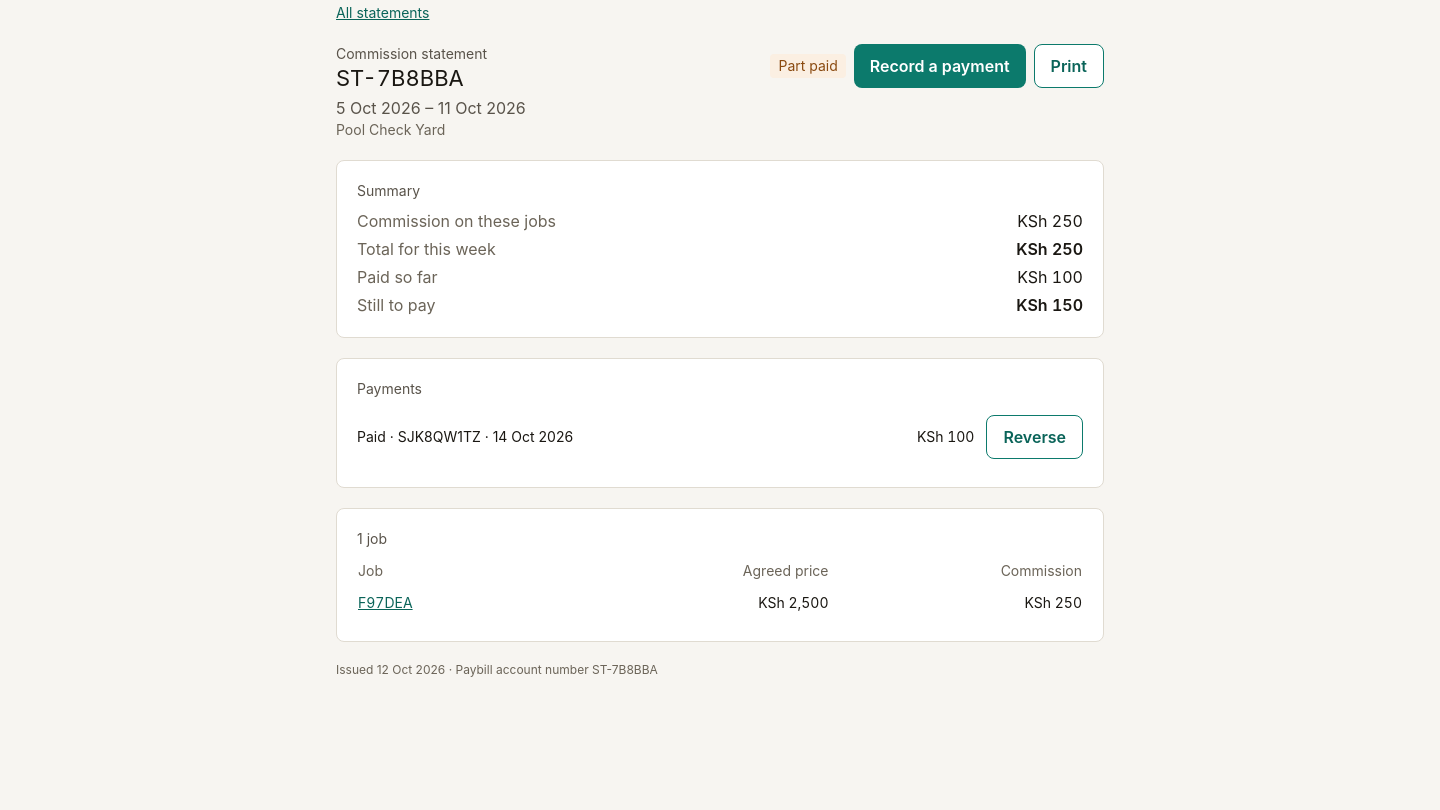
AdminStatementDetailPage › records a payment after a confirm step that restates it
Click the button "Record a payment". click: (940, 66)
box: [854, 44, 1026, 88]
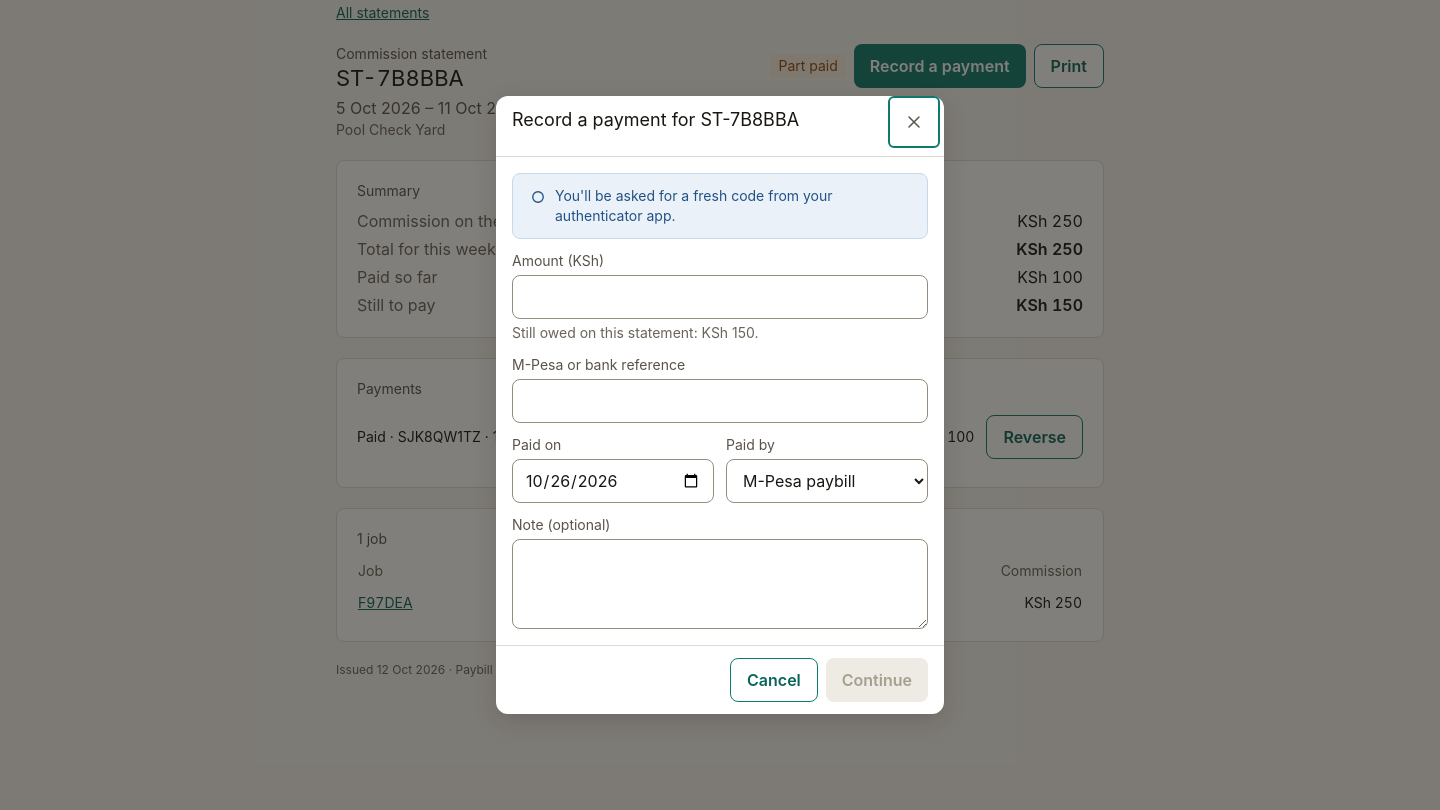
Type "200" into the field labelled "Amount (KSh)". click: (720, 297)
box: [512, 275, 928, 319]
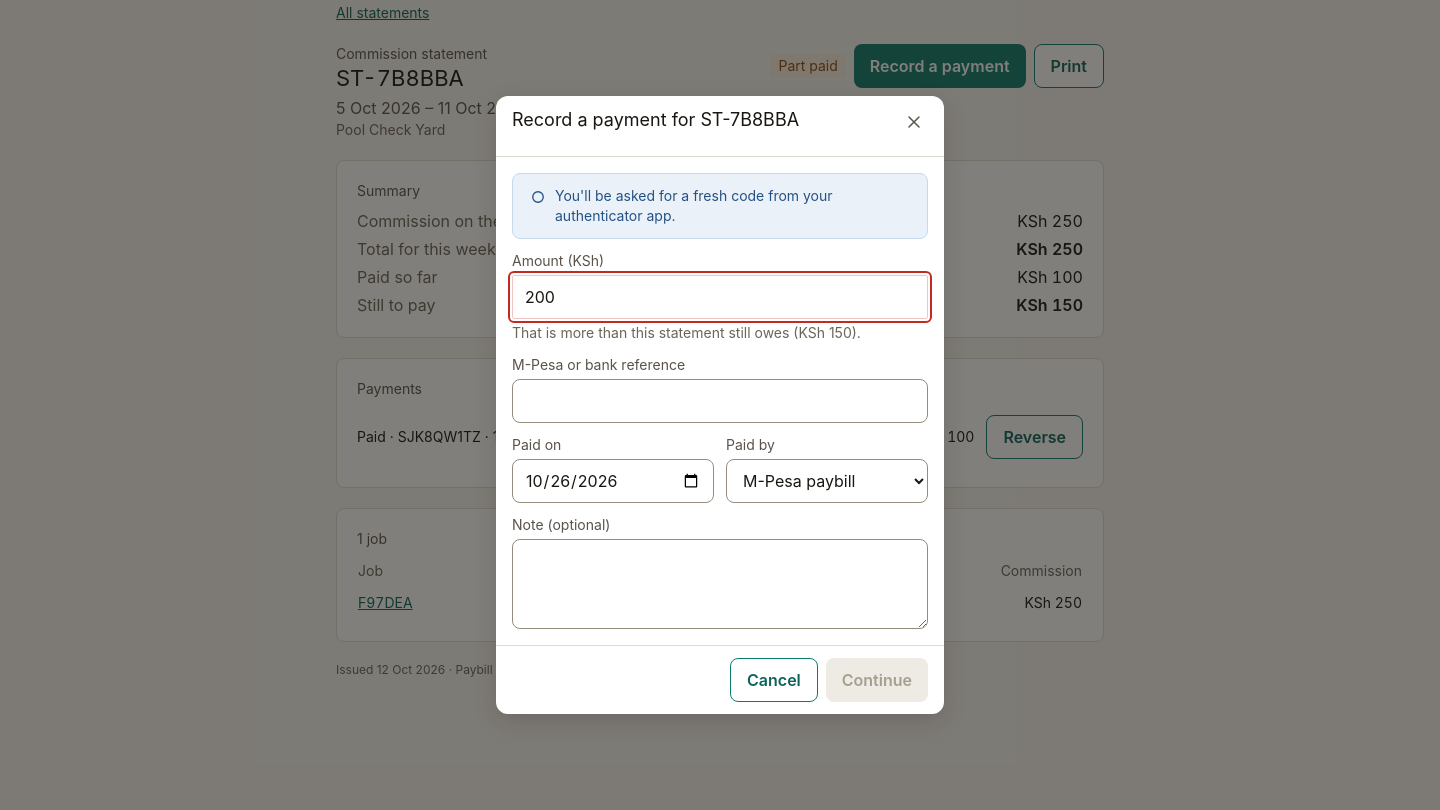
Now the button "Continue" is disabled, box [826, 658, 928, 702]
Replace the text in the field labelled "Amount (KSh)" with "150". click: (720, 297)
box: [512, 275, 928, 319]
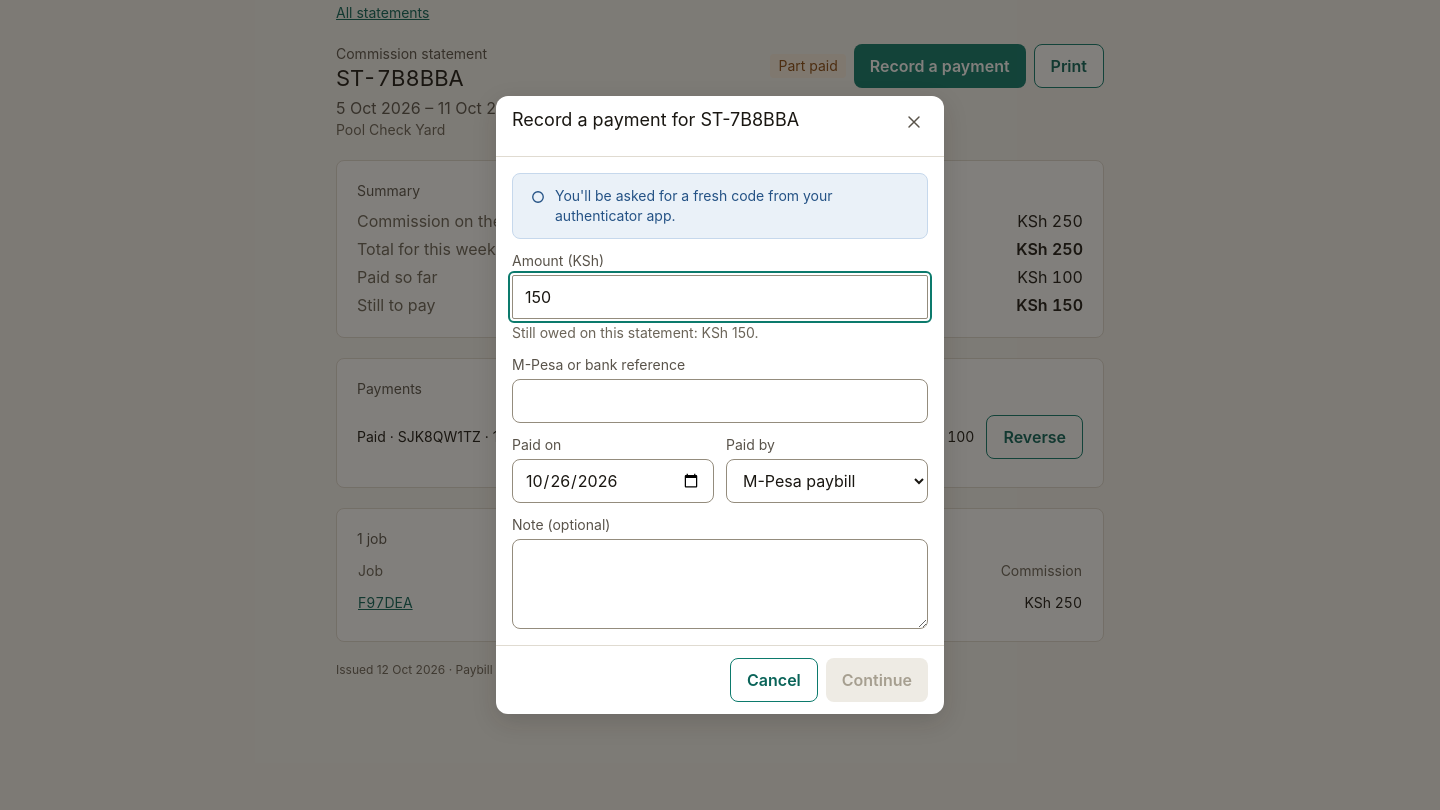
Type "sjk9ab2cd" into the field labelled "M-Pesa or bank reference". click: (720, 401)
box: [512, 379, 928, 423]
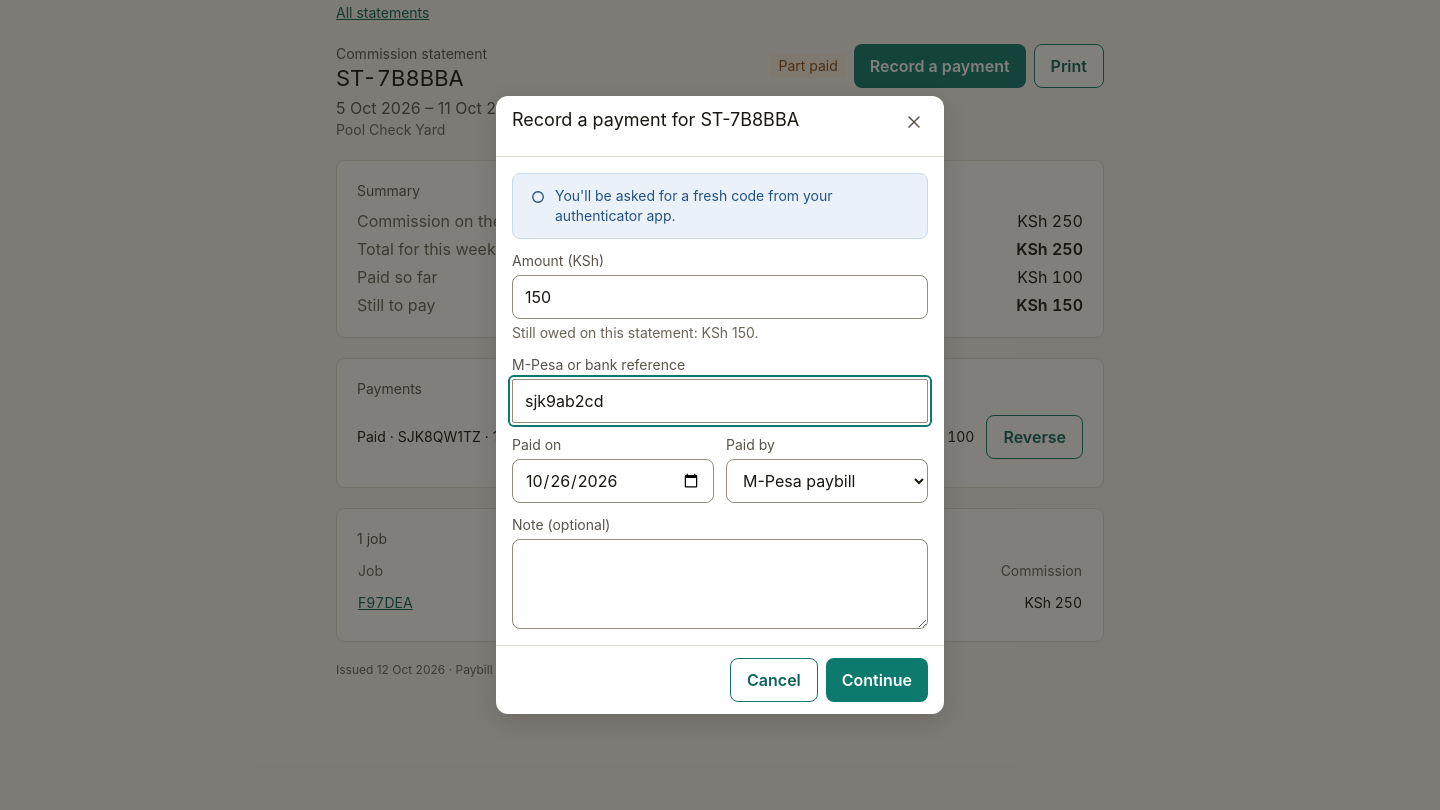
Click the button "Continue". click: (877, 680)
box: [826, 658, 928, 702]
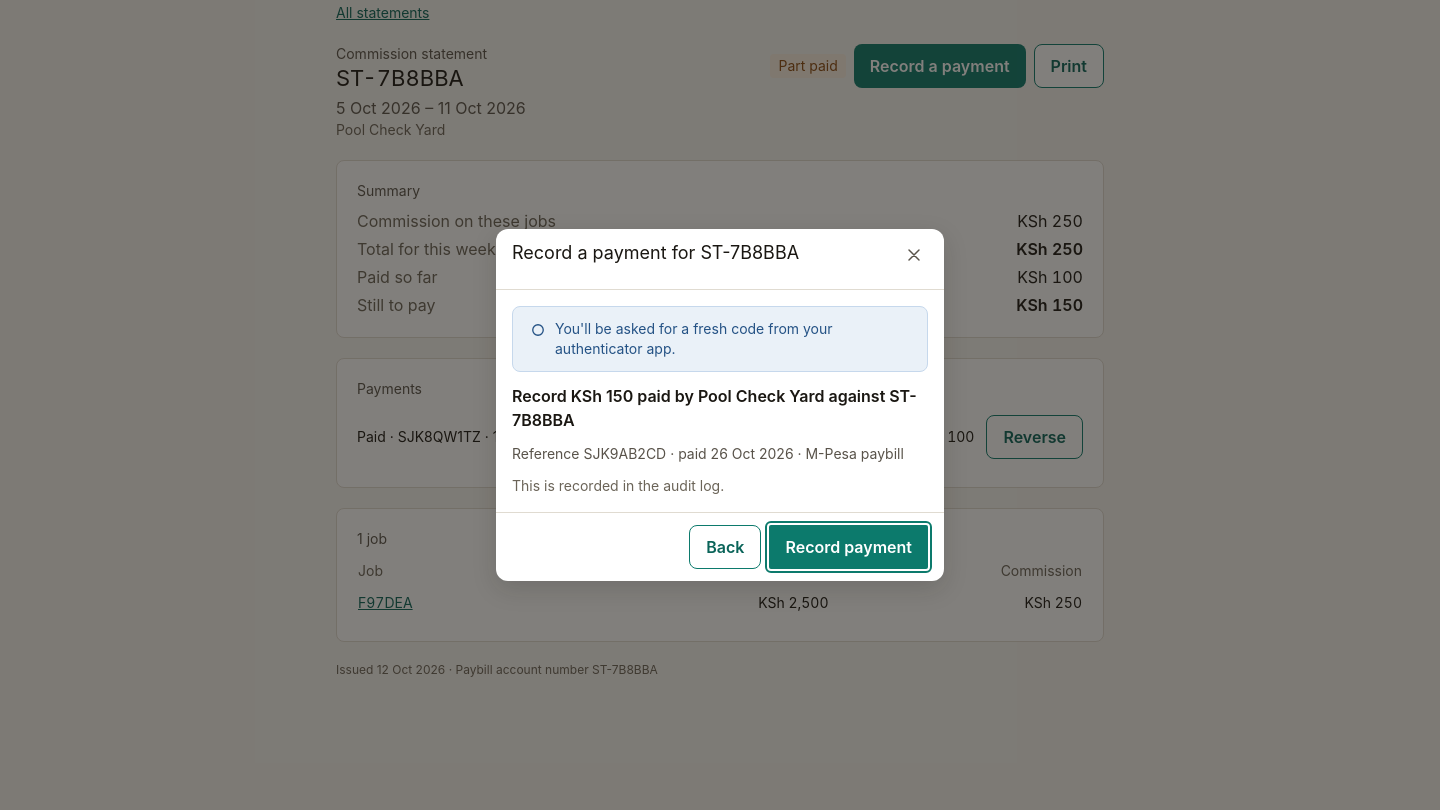
Now the text "Record KSh 150 paid by Pool Check Yard against ST-7B8BBA" is shown, box [512, 384, 928, 432]
Click the button "Record payment". click: (849, 547)
box: [769, 525, 928, 569]
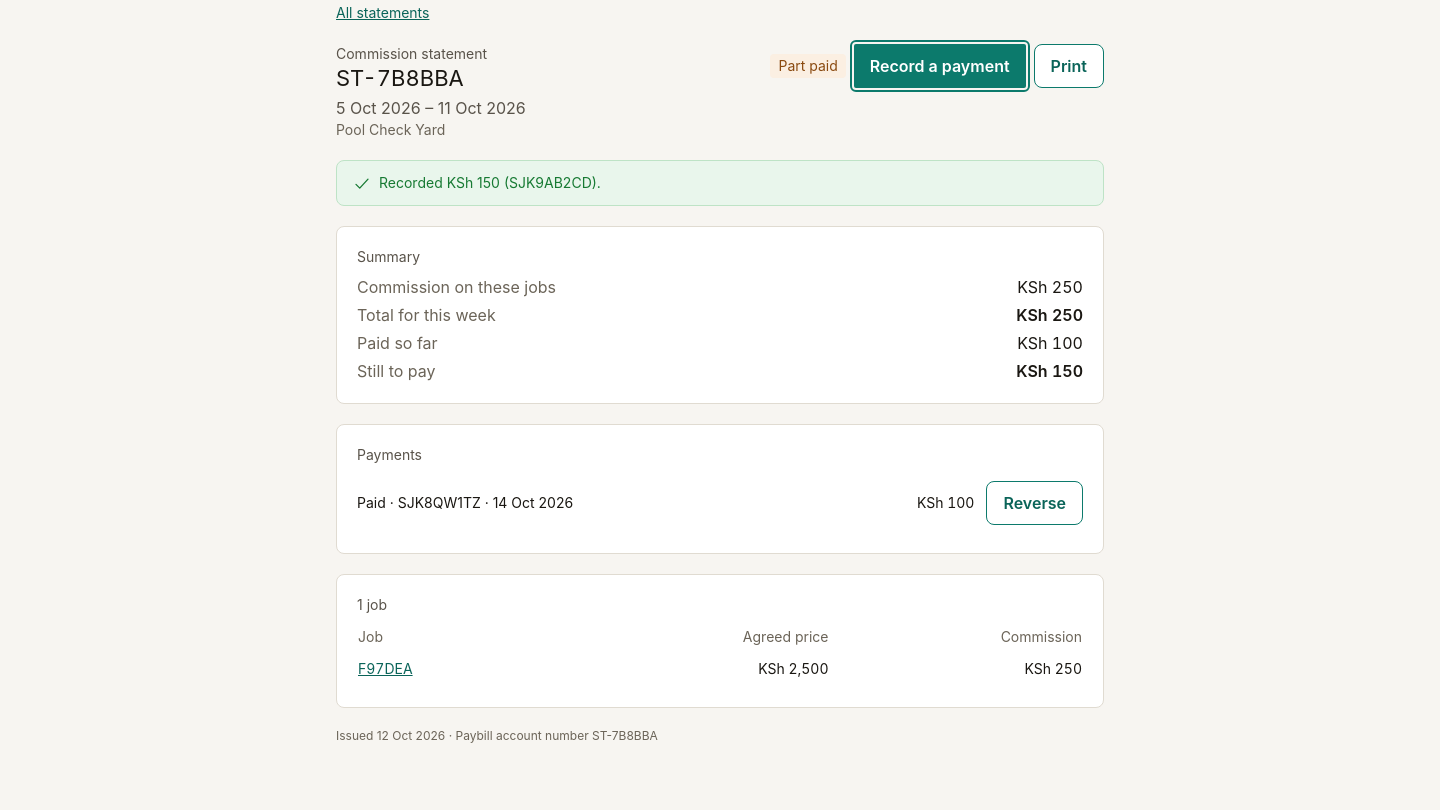
Now the text "Recorded KSh 150 (SJK9AB2CD)." is shown, box [379, 173, 601, 193]
